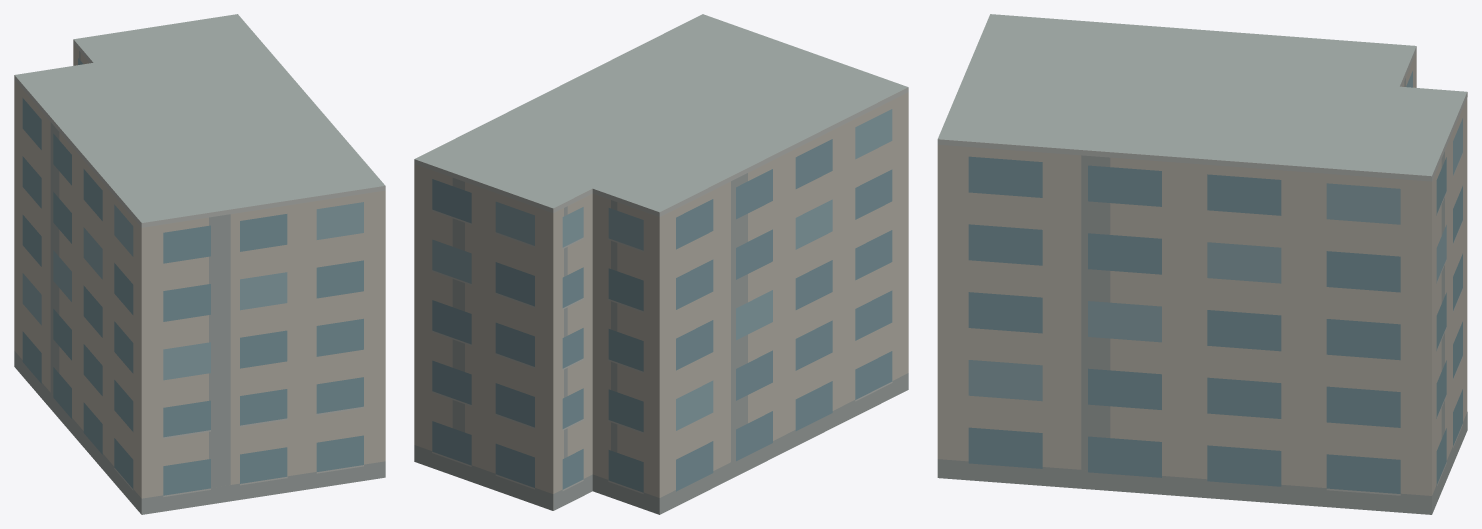
File: residential-313cd040-f7e7-4de3-88b9-38ff90ad47d1.glb
3 renders of one model, left to right at view 1: azimuth 30°, elevation 25°; view 2: azimuth 150°, elevation 25°; view 3: azimuth 270°, elevation 25°, orthographic. The views are drawn at different scales.
Visible parts, largest first — view 1: residential-313cd040-f7e7-4de3-88b9-38ff90ad47d1.tmp; view 2: residential-313cd040-f7e7-4de3-88b9-38ff90ad47d1.tmp; view 3: residential-313cd040-f7e7-4de3-88b9-38ff90ad47d1.tmp.
Boxes of the visible parts, x1=… form: residential-313cd040-f7e7-4de3-88b9-38ff90ad47d1.tmp: x1=14, y1=14, x2=385, y2=514; residential-313cd040-f7e7-4de3-88b9-38ff90ad47d1.tmp: x1=414, y1=14, x2=908, y2=514; residential-313cd040-f7e7-4de3-88b9-38ff90ad47d1.tmp: x1=937, y1=14, x2=1467, y2=514.
Size of the model in its own units: 15.67 by 15.25 by 21.63.
